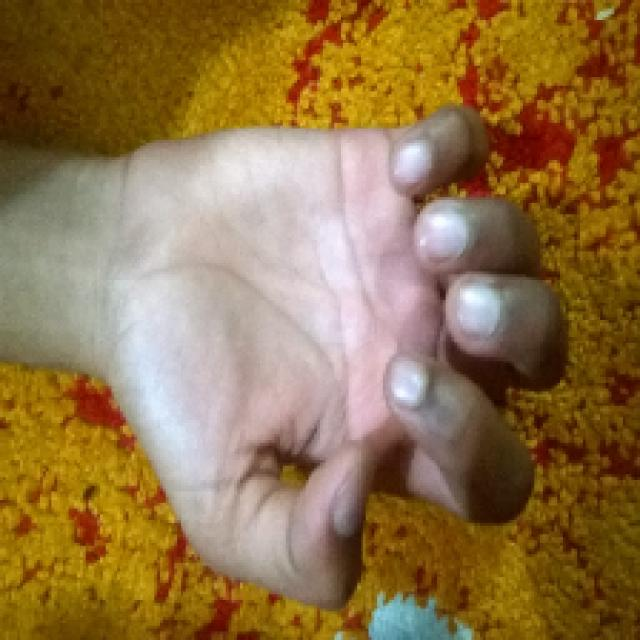Nail: (332, 466, 369, 538), (415, 212, 469, 261), (455, 282, 500, 338), (386, 355, 430, 409), (392, 139, 434, 186)
